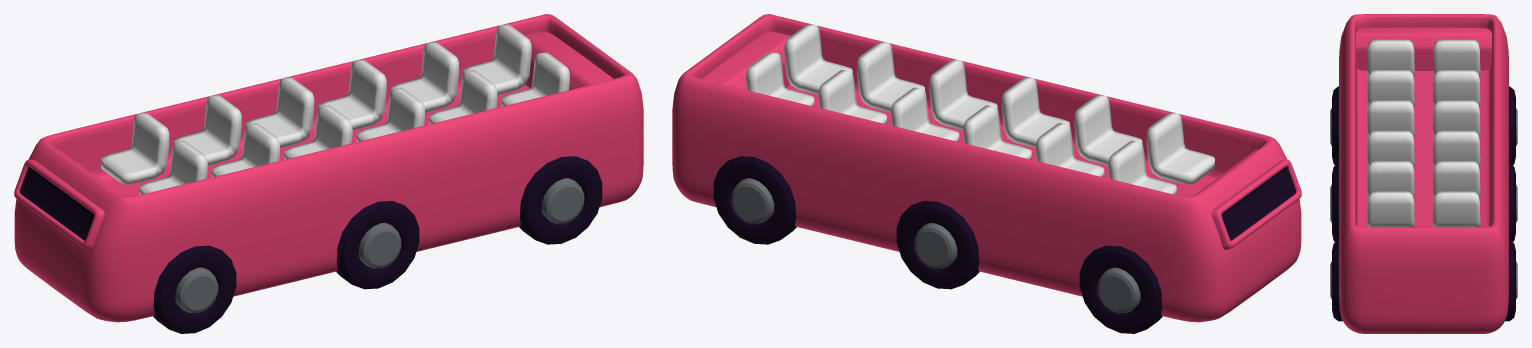
Rendered from car_l_3.fbx.
The picture shows the model from 3 angles, left to right: view 1: azimuth 30°, elevation 25°; view 2: azimuth 150°, elevation 25°; view 3: azimuth 270°, elevation 25°; orthographic projection. The views are drawn at different scales.
Visible parts, largest first — view 1: Cube.010, Cube.004, Cylinder.004, Cube.012; view 2: Cube.010, Cube.004, Cylinder.004, Cube.012; view 3: Cube.010, Cube.004, Cylinder.004.
Boxes of the visible parts, <box> form: Cube.010: <box>14,14,643,322</box>; Cube.004: <box>101,24,569,194</box>; Cylinder.004: <box>153,156,602,333</box>; Cube.012: <box>19,167,94,240</box>; Cube.010: <box>672,14,1301,322</box>; Cube.004: <box>746,24,1214,194</box>; Cylinder.004: <box>713,156,1162,333</box>; Cube.012: <box>1221,167,1296,240</box>; Cube.010: <box>1339,14,1508,333</box>; Cube.004: <box>1367,39,1480,227</box>; Cylinder.004: <box>1330,86,1517,321</box>.
Size of the model in its own units: 645 by 173 by 220.
